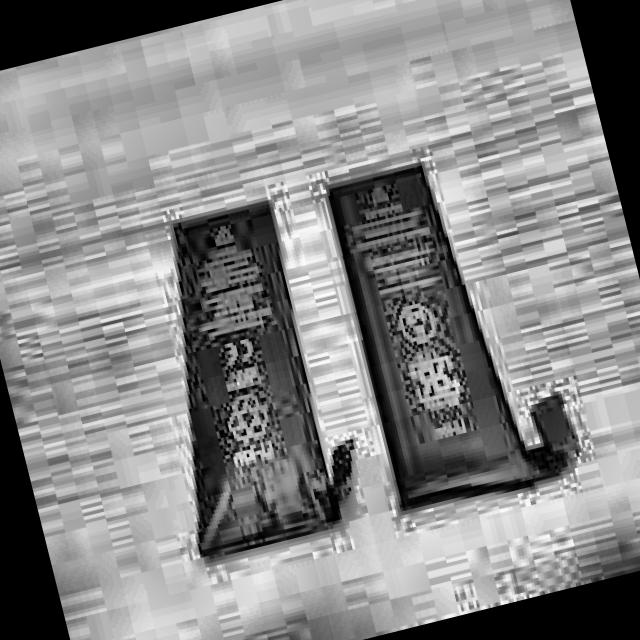Battery: (118, 188, 355, 564), (310, 145, 542, 520)
